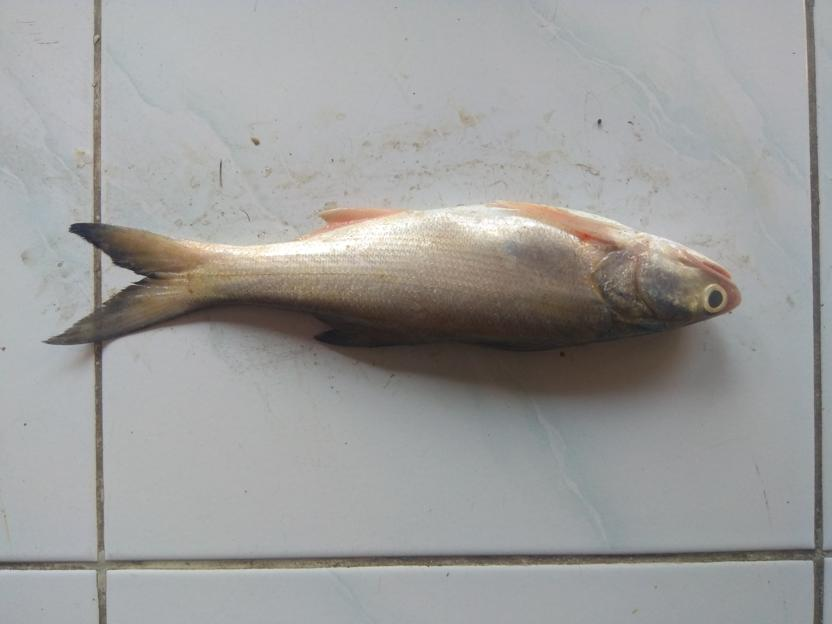Fish head: (595, 215, 742, 343)
Fish tail: (43, 222, 213, 347)
